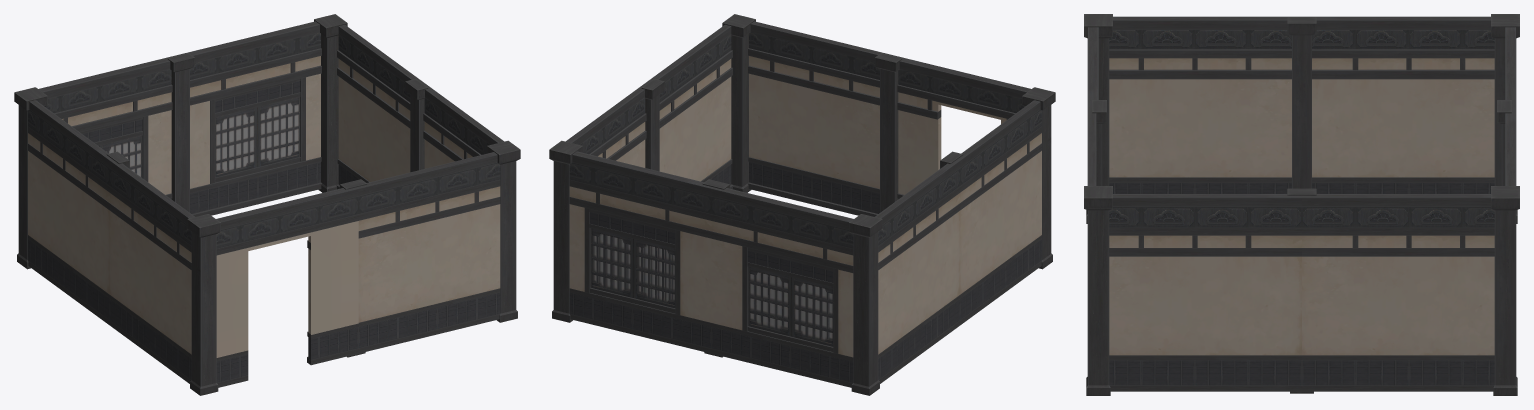
Rendered from Homeworld_Interior_Dq_Room_A_Wall_01_Vo.fbx.
3 views of the same model, side by side, from view 1: azimuth 30°, elevation 25°; view 2: azimuth 150°, elevation 25°; view 3: azimuth 270°, elevation 25° (orthographic). The views are drawn at different scales.
Parts seen in each view (by area): view 1: Homeworld_Interior_Dq_Room_Wall_01_Vo (×5), Homeworld_Interior_Dq_Room_Wall_02_Vo (×2), Homeworld_Interior_Dq_Room_Wall_06_Vo, Homeworld_Interior_Dq_Room_Pillar_01_Vo (×4), Homeworld_Interior_Dq_Room_Pillar_02_Vo (×2); view 2: Homeworld_Interior_Dq_Room_Wall_01_Vo (×5), Homeworld_Interior_Dq_Room_Wall_02_Vo (×2), Homeworld_Interior_Dq_Room_Pillar_01_Vo (×4), Homeworld_Interior_Dq_Room_Wall_06_Vo, Homeworld_Interior_Dq_Room_A_Filling_01_Vo, Homeworld_Interior_Dq_Room_Pillar_02_Vo (×2); view 3: Homeworld_Interior_Dq_Room_Wall_01_Vo (×5), Homeworld_Interior_Dq_Room_Pillar_01_Vo (×4), Homeworld_Interior_Dq_Room_Pillar_02_Vo (×3), Homeworld_Interior_Dq_Room_Wall_02_Vo (×2), Homeworld_Interior_Dq_Room_Wall_06_Vo.
Part boxes in pixels (box(x1,y1,x2,y2)): Homeworld_Interior_Dq_Room_Wall_01_Vo (×5): box(28, 24, 504, 383); Homeworld_Interior_Dq_Room_Wall_02_Vo (×2): box(38, 21, 321, 216); Homeworld_Interior_Dq_Room_Wall_06_Vo: box(197, 187, 358, 387); Homeworld_Interior_Dq_Room_Pillar_01_Vo (×4): box(14, 14, 520, 395); Homeworld_Interior_Dq_Room_Pillar_02_Vo (×2): box(167, 53, 428, 212); Homeworld_Interior_Dq_Room_Wall_01_Vo (×5): box(565, 21, 1041, 383); Homeworld_Interior_Dq_Room_Wall_02_Vo (×2): box(569, 151, 853, 387); Homeworld_Interior_Dq_Room_Pillar_01_Vo (×4): box(549, 14, 1055, 395); Homeworld_Interior_Dq_Room_Wall_06_Vo: box(893, 55, 1051, 199); Homeworld_Interior_Dq_Room_A_Filling_01_Vo: box(592, 234, 832, 340); Homeworld_Interior_Dq_Room_Pillar_02_Vo (×2): box(641, 53, 902, 212); Homeworld_Interior_Dq_Room_Wall_01_Vo (×5): box(1088, 16, 1494, 391); Homeworld_Interior_Dq_Room_Pillar_01_Vo (×4): box(1084, 14, 1519, 395); Homeworld_Interior_Dq_Room_Pillar_02_Vo (×3): box(1092, 17, 1511, 188); Homeworld_Interior_Dq_Room_Wall_02_Vo (×2): box(1505, 27, 1515, 185); Homeworld_Interior_Dq_Room_Wall_06_Vo: box(1088, 27, 1098, 107).
Size of what is drawn, in the model's own units: 10.18 by 5.12 by 10.18.
